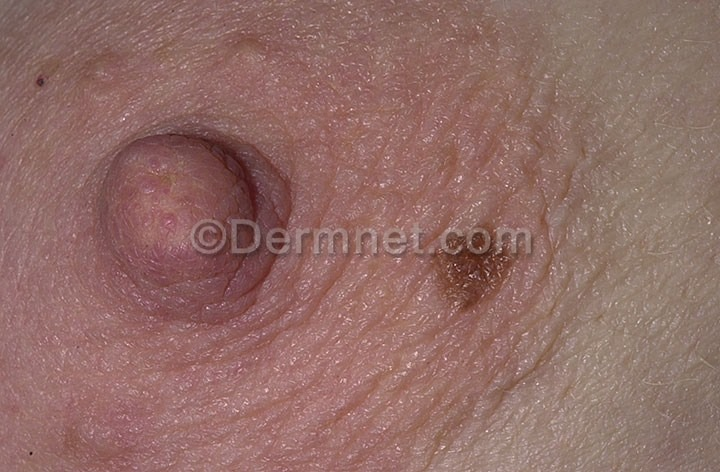Melasma: (416, 256, 584, 351)
